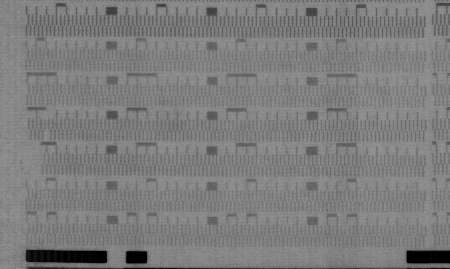Broken hole: (25, 146, 44, 175), (41, 129, 52, 141)
